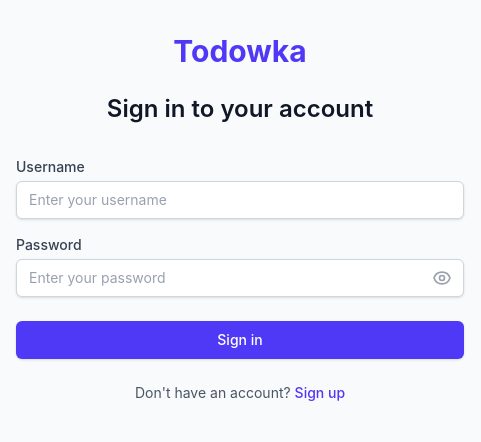
Login › validation › shows both validation errors when both fields are empty
Click the button "Sign in". click: x=240, y=340
box: [16,321,464,359]
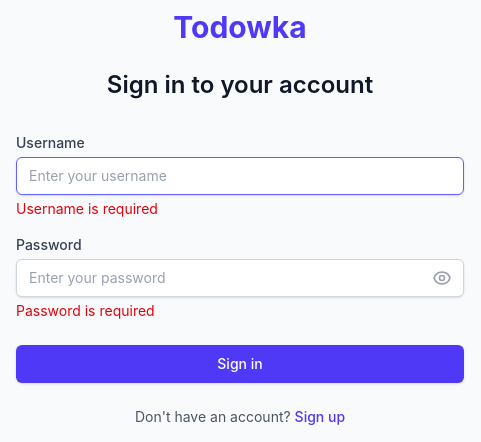
Expected: the text "Username is required" is shown, [16,200,158,217]
Expected: the text "Password is required" is shown, [16,302,155,319]
